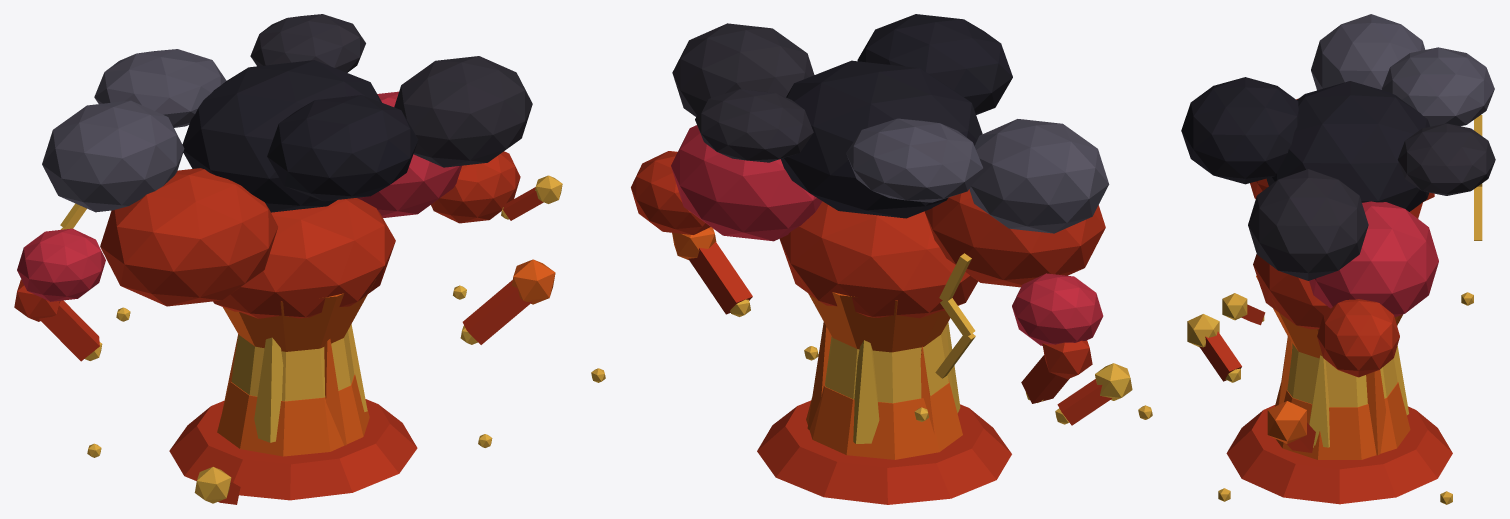
The model's file is Decor_Volcano_Eruption.fbx.
3 views of the same model, side by side, from view 1: azimuth 30°, elevation 25°; view 2: azimuth 150°, elevation 25°; view 3: azimuth 270°, elevation 25° (orthographic). The views are drawn at different scales.
Visible parts, largest first — view 1: Eruption_Body; view 2: Eruption_Body; view 3: Eruption_Body.
Boxes of the visible parts, x1,y1,x2,y2 form: Eruption_Body: (14, 14, 562, 504); Eruption_Body: (591, 14, 1152, 504); Eruption_Body: (1181, 14, 1495, 504).
Size of the model in its own units: 23.3 by 18.1 by 14.1.
